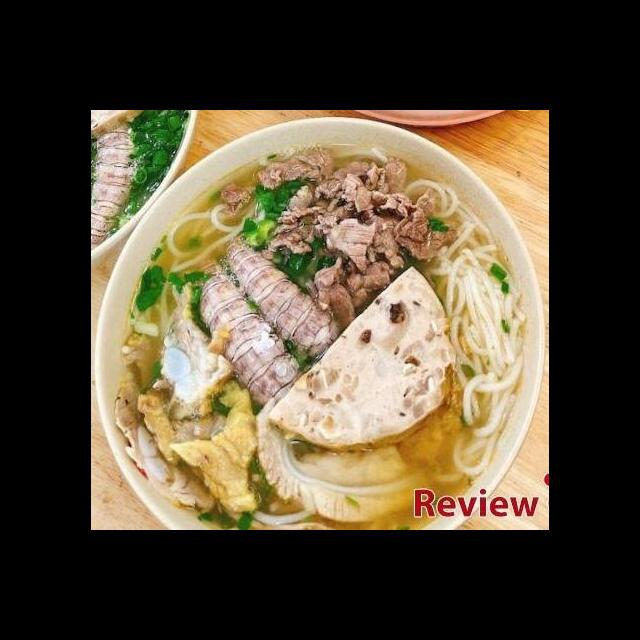bun: (428, 241, 531, 479), (406, 177, 503, 277), (162, 190, 264, 278)
bun hai san: (111, 137, 549, 530)
thit heo: (251, 139, 463, 330), (249, 393, 412, 523)
tom tit: (193, 253, 308, 411), (222, 231, 350, 365), (92, 115, 140, 257)
